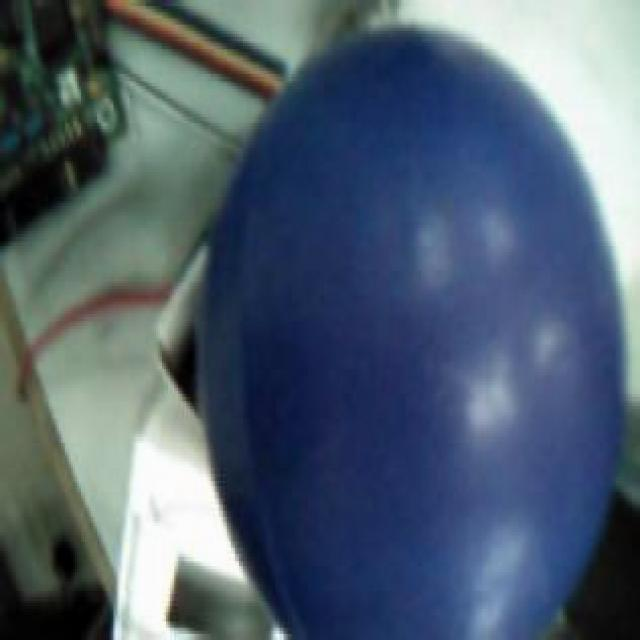BallPurple: (198, 26, 620, 640)
